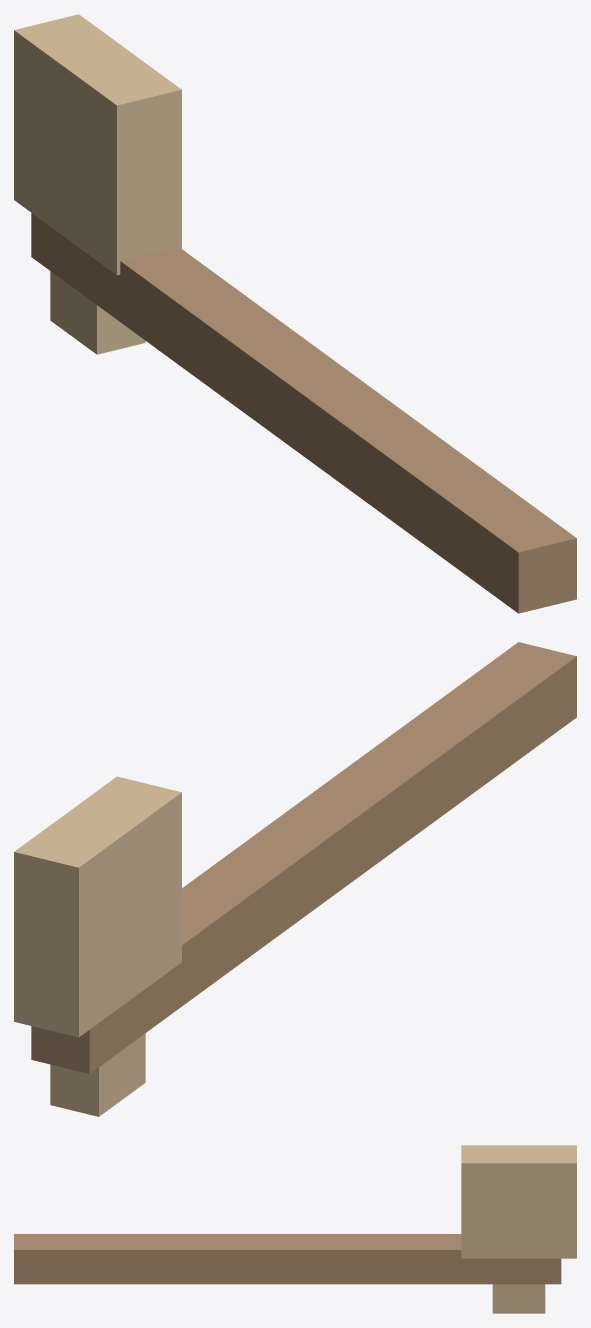
File: wood_axe_held.gltf
3 views of the same model, one above another, from view 1: azimuth 30°, elevation 25°; view 2: azimuth 150°, elevation 25°; view 3: azimuth 270°, elevation 25° (orthographic). The views are drawn at different scales.
Parts seen in each view (by area): view 1: tools_wood_axe_held; view 2: tools_wood_axe_held; view 3: tools_wood_axe_held.
Boxes of the visible parts, x1=… form: tools_wood_axe_held: x1=14, y1=14, x2=576, y2=613; tools_wood_axe_held: x1=14, y1=642, x2=576, y2=1116; tools_wood_axe_held: x1=14, y1=1145, x2=576, y2=1313.
Bounding box in the file's own units: 0.04 × 0.16 × 0.535.
